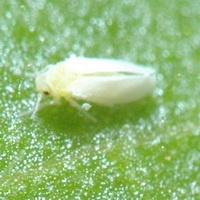insect: (35, 56, 155, 120)
